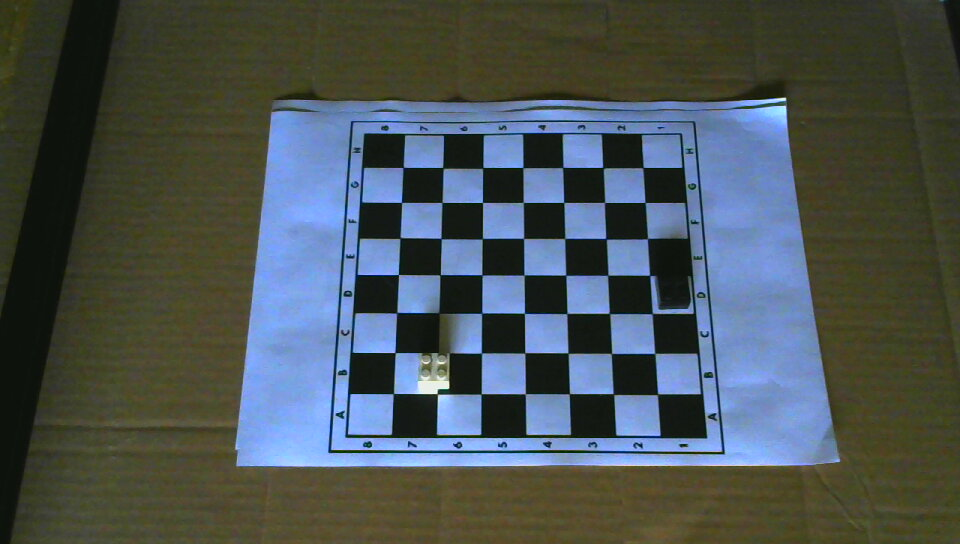bp: (652, 272, 691, 310)
wp: (417, 349, 451, 388)
